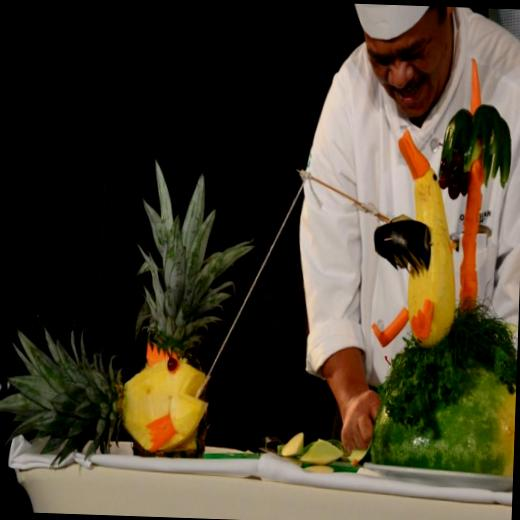Mango: (129, 156, 261, 458), (0, 317, 210, 472)
